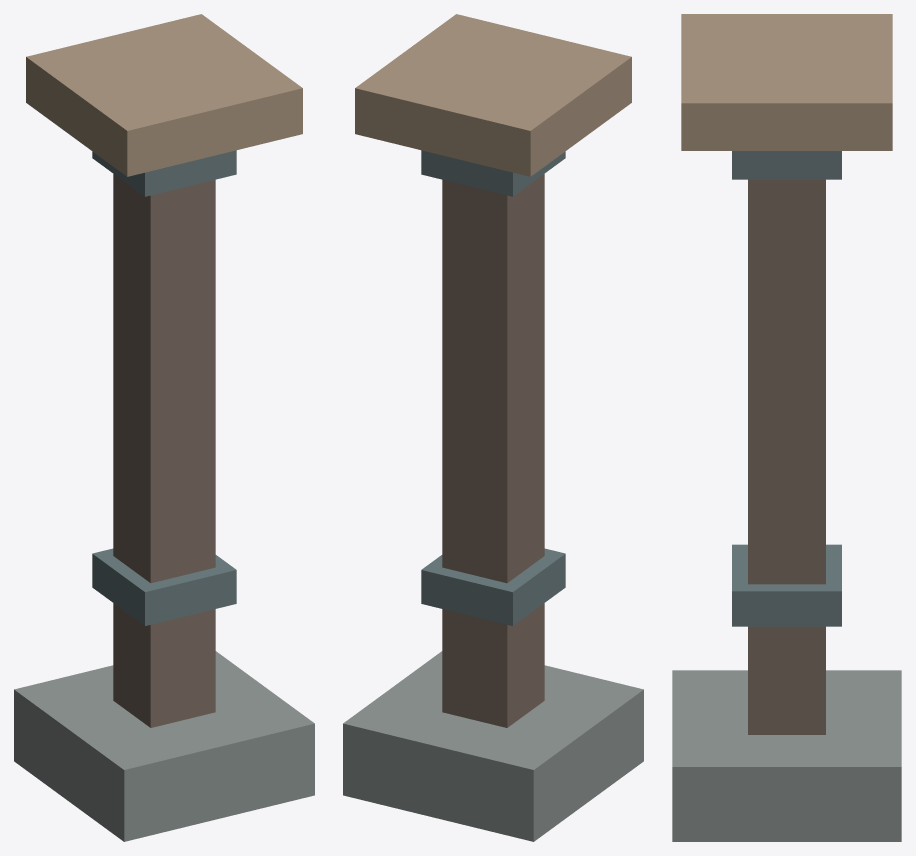
File: coluna_madeira_escura.glb
The picture shows the model from 3 angles, left to right: view 1: azimuth 30°, elevation 25°; view 2: azimuth 150°, elevation 25°; view 3: azimuth 270°, elevation 25°; orthographic projection. The views are drawn at different scales.
Visible parts, largest first — view 1: coluna_madeira_escura_part_001, coluna_madeira_escura_part_000, coluna_madeira_escura_part_004, coluna_madeira_escura_part_002, coluna_madeira_escura_part_003; view 2: coluna_madeira_escura_part_001, coluna_madeira_escura_part_000, coluna_madeira_escura_part_004, coluna_madeira_escura_part_002, coluna_madeira_escura_part_003; view 3: coluna_madeira_escura_part_001, coluna_madeira_escura_part_000, coluna_madeira_escura_part_004, coluna_madeira_escura_part_002, coluna_madeira_escura_part_003.
Part boxes in pixels (x1,y1,x2,y2): coluna_madeira_escura_part_001: (113,174,215,727); coluna_madeira_escura_part_000: (14,651,314,841); coluna_madeira_escura_part_004: (26,14,302,176); coluna_madeira_escura_part_002: (92,548,236,625); coluna_madeira_escura_part_003: (92,150,236,196); coluna_madeira_escura_part_001: (442,174,544,727); coluna_madeira_escura_part_000: (343,651,643,841); coluna_madeira_escura_part_004: (355,14,631,176); coluna_madeira_escura_part_002: (421,548,565,625); coluna_madeira_escura_part_003: (421,150,565,196); coluna_madeira_escura_part_001: (748,179,825,734); coluna_madeira_escura_part_000: (672,670,901,841); coluna_madeira_escura_part_004: (681,14,892,150); coluna_madeira_escura_part_002: (732,544,841,626); coluna_madeira_escura_part_003: (732,151,841,179).
Bounding box in the file's own units: 1 × 3.54 × 1.
